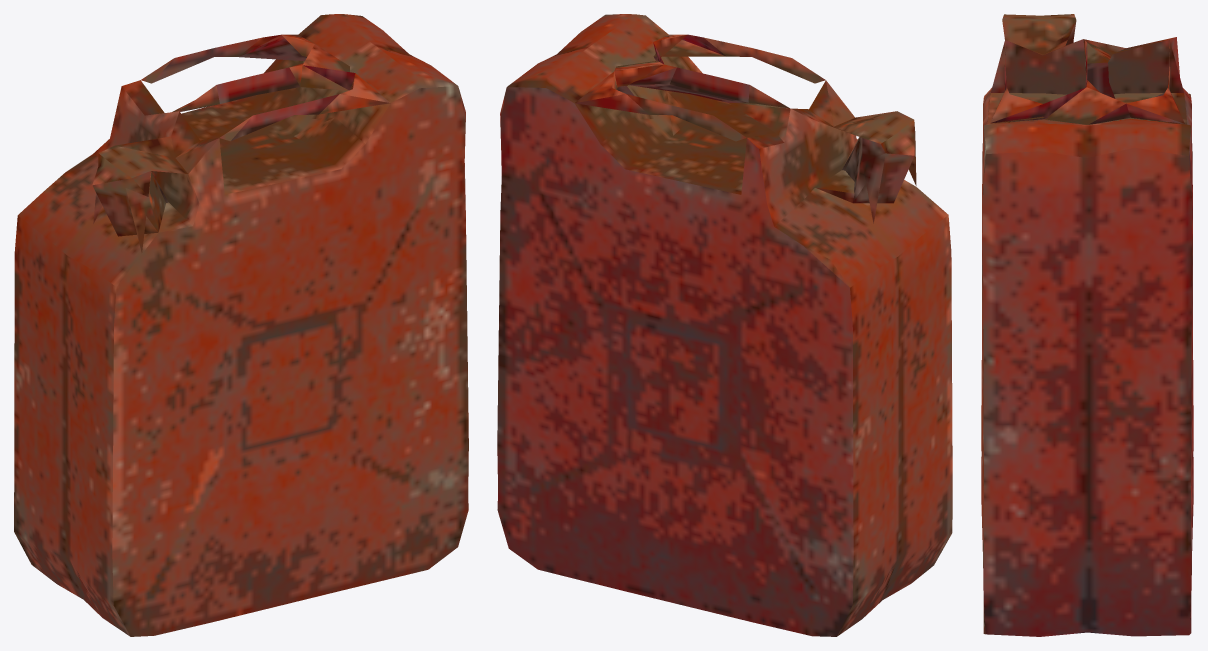
File: metal_jerrycan.glb
The picture shows the model from 3 angles, left to right: view 1: azimuth 30°, elevation 25°; view 2: azimuth 150°, elevation 25°; view 3: azimuth 270°, elevation 25°; orthographic projection. The views are drawn at different scales.
Parts seen in each view (by area): view 1: mesh; view 2: mesh; view 3: mesh.
Part boxes in pixels (<box>): mesh: <box>14,14,468,636</box>; mesh: <box>497,14,952,636</box>; mesh: <box>981,14,1193,636</box>.
Bounding box in the file's own units: 0.3502 × 0.4552 × 0.1718.
1 material, 1 textured.
